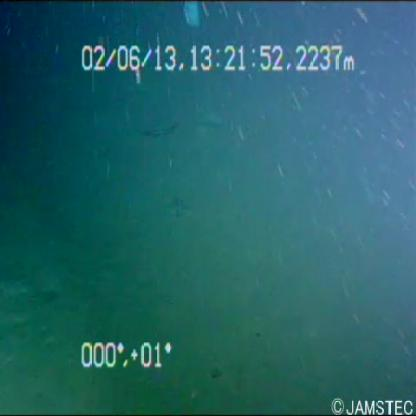Rác: (183, 1, 202, 30)
